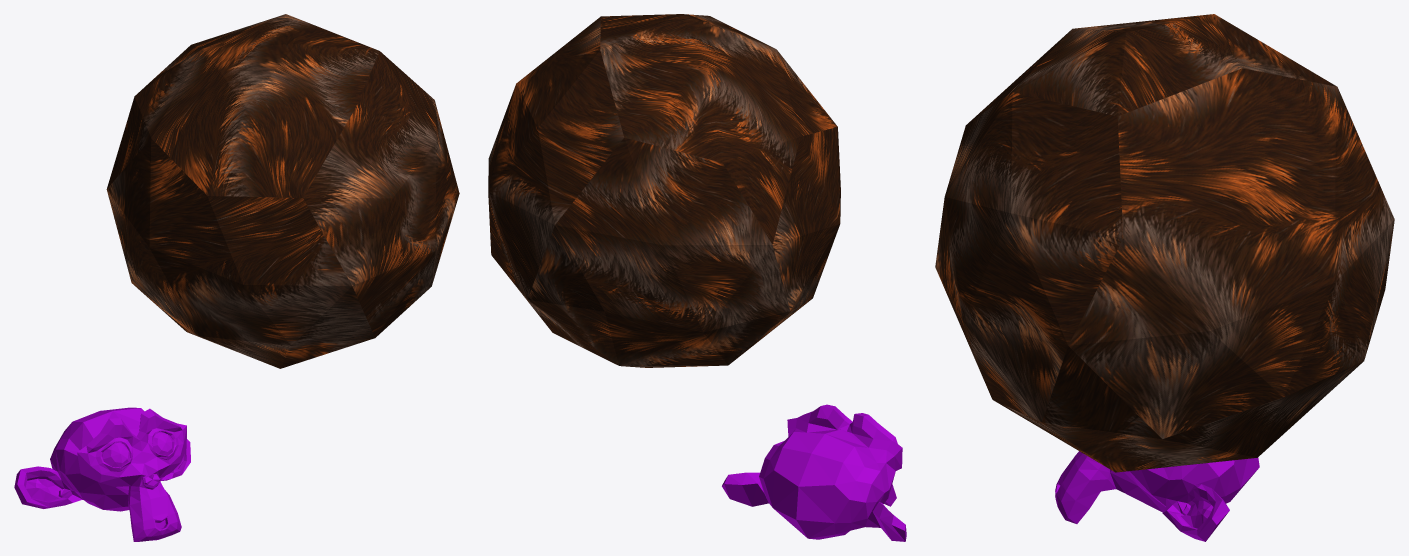
Rendered from ball_path_2.dae.
3 views of the same model, side by side, from view 1: azimuth 30°, elevation 25°; view 2: azimuth 150°, elevation 25°; view 3: azimuth 270°, elevation 25° (orthographic). The views are drawn at different scales.
Parts seen in each view (by area): view 1: Icosphere, Suzanne; view 2: Icosphere, Suzanne; view 3: Icosphere, Suzanne.
Part boxes in pixels (box(x1,y1,x2,y2)): Icosphere: box(106, 14, 459, 368); Suzanne: box(14, 407, 190, 541); Icosphere: box(488, 14, 840, 367); Suzanne: box(722, 404, 906, 541); Icosphere: box(935, 14, 1394, 472); Suzanne: box(1055, 451, 1259, 541).
Bounding box in the file's own units: 2.6 × 1.96 × 2.75.
